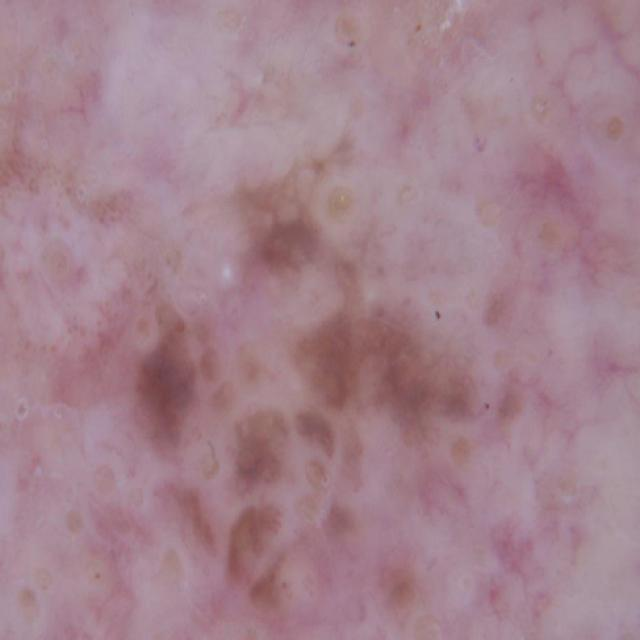Keratosis: (205, 359, 519, 640), (0, 45, 188, 435), (435, 53, 640, 323)
